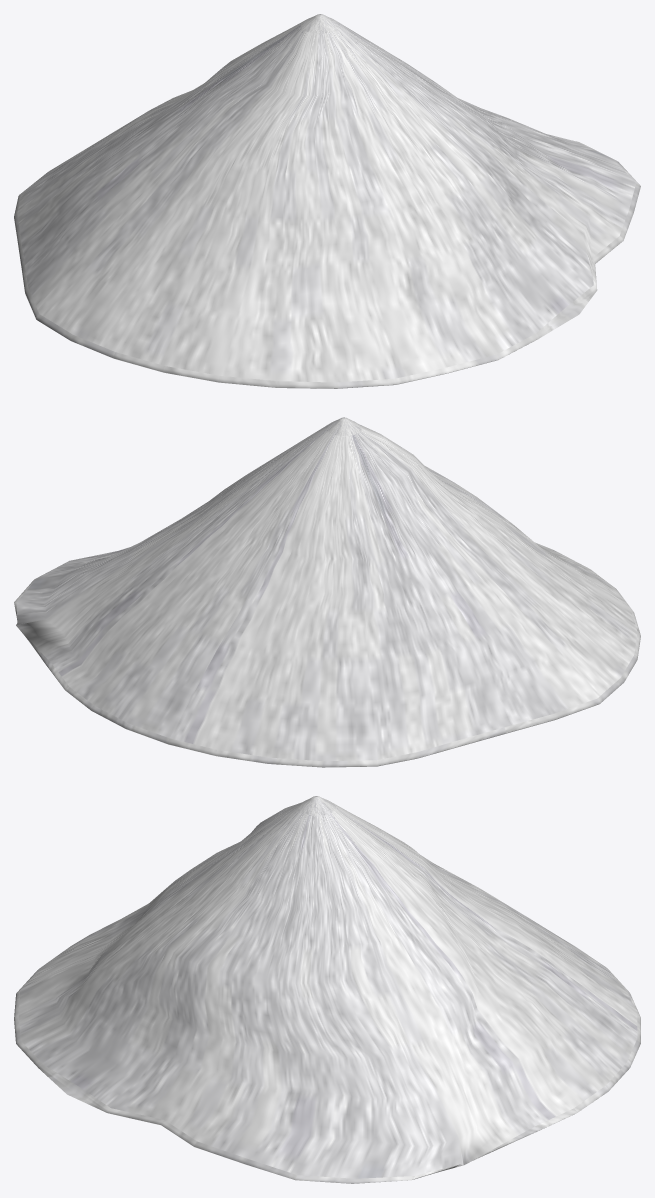
The model's file is полимер.FBX.
3 renders of one model, top to bottom at view 1: azimuth 30°, elevation 25°; view 2: azimuth 150°, elevation 25°; view 3: azimuth 270°, elevation 25°, orthographic. The views are drawn at different scales.
Visible parts, largest first — view 1: полимер; view 2: полимер; view 3: полимер.
Boxes of the visible parts, x1,y1,x2,y2 form: полимер: [14, 14, 640, 388]; полимер: [14, 417, 640, 767]; полимер: [14, 796, 640, 1183].
Size of the model in its own units: 37.67 by 14.46 by 34.82.
1 material, 1 textured.
